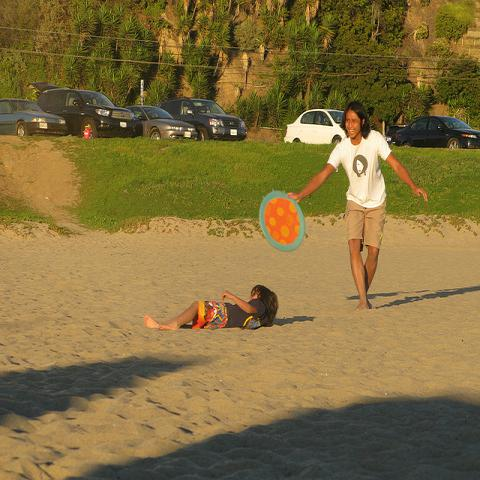car: (27, 81, 137, 138), (395, 114, 479, 152), (0, 98, 67, 136), (128, 105, 197, 140), (283, 109, 348, 144)
truck: (26, 81, 144, 140), (160, 98, 248, 140)
